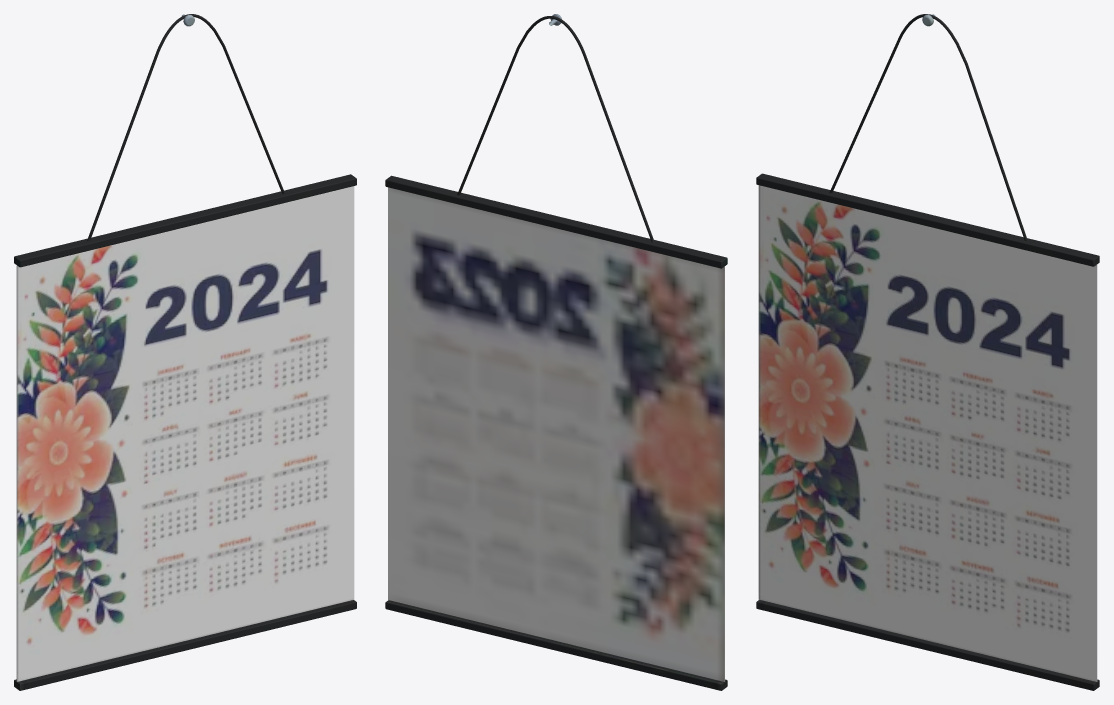
The model's file is calendar_wall_-_3mb-opt (1).glb.
3 renders of one model, left to right at view 1: azimuth 30°, elevation 25°; view 2: azimuth 150°, elevation 25°; view 3: azimuth 330°, elevation 25°, orthographic.
Parts seen in each view (by area): view 1: Cylinder__0; view 2: Cylinder__0; view 3: Cylinder__0.
Boxes of the visible parts, box(x1,y1,x2,y2) form: Cylinder__0: box(14, 14, 356, 690); Cylinder__0: box(385, 14, 727, 690); Cylinder__0: box(756, 14, 1099, 690).
Bounding box in the file's own units: 1.58 × 2.83 × 0.0574.
Materials: 1 (1 with a texture image).
